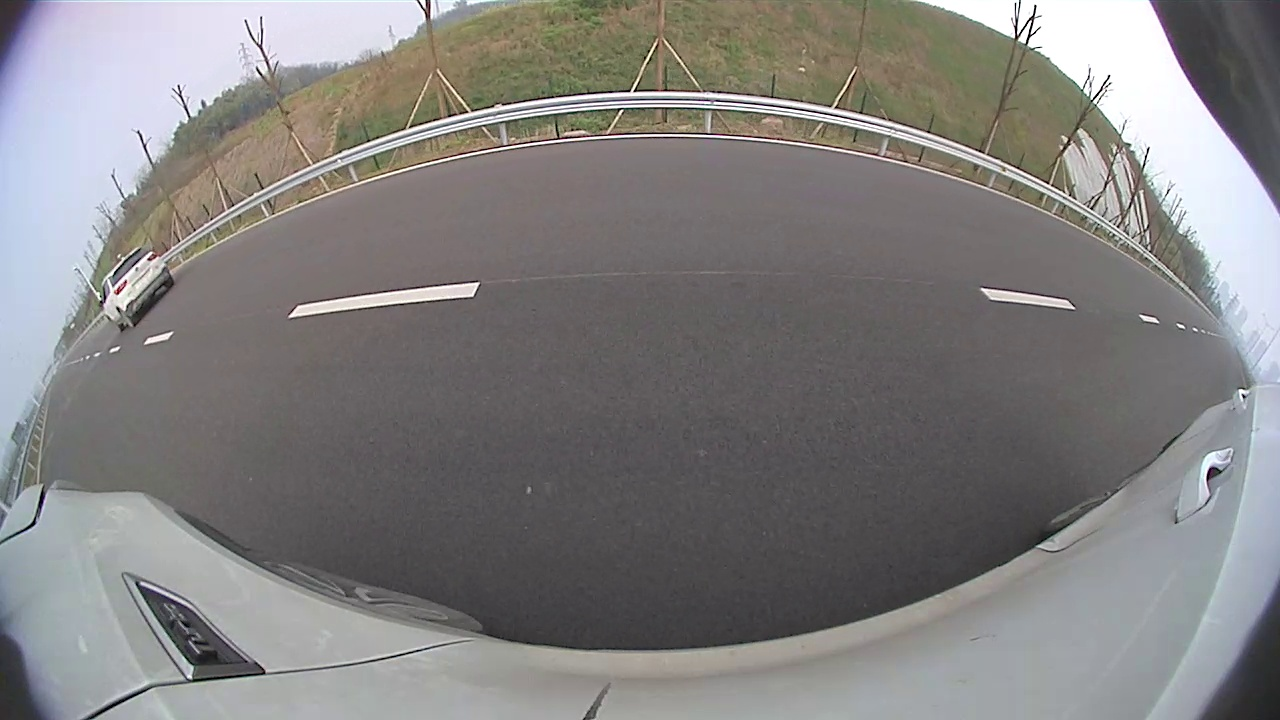car: (101, 248, 173, 331)
rear: (116, 308, 134, 330)
